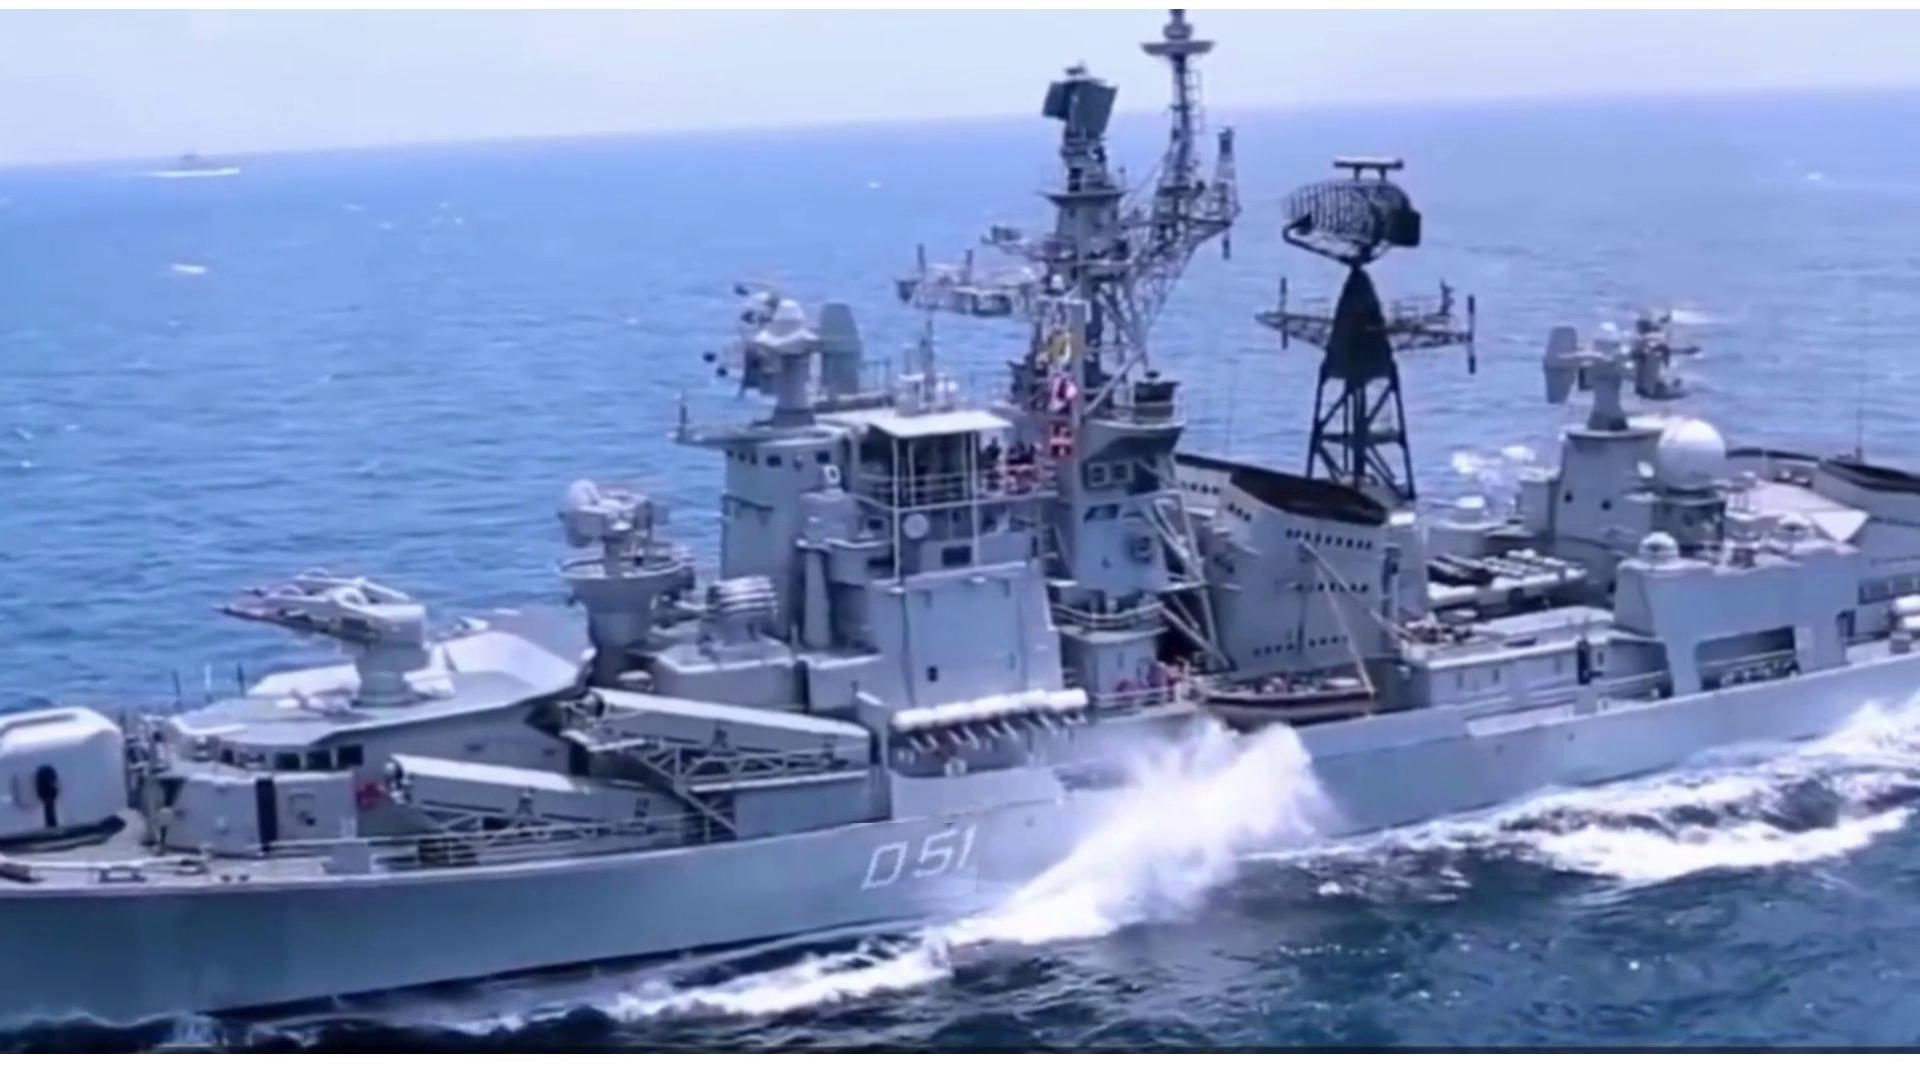OCR: (834, 824, 986, 910)
